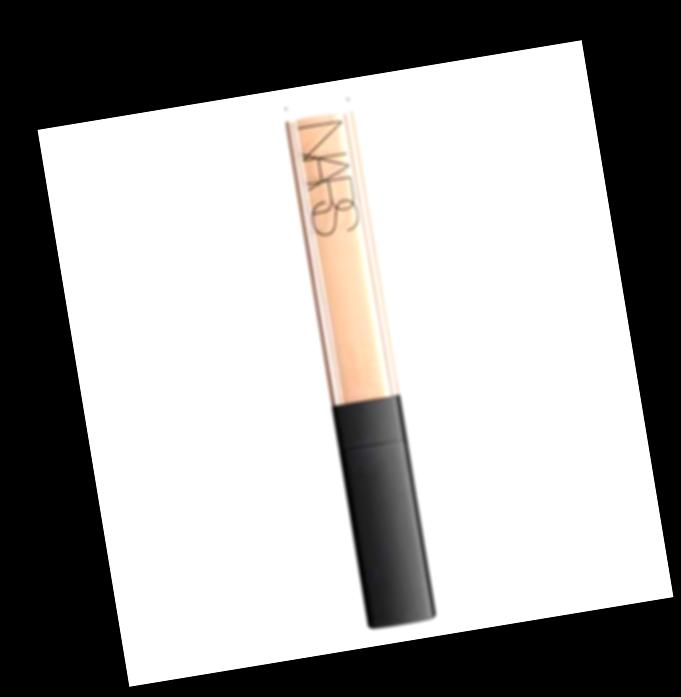cosmetic: (278, 92, 436, 629)
